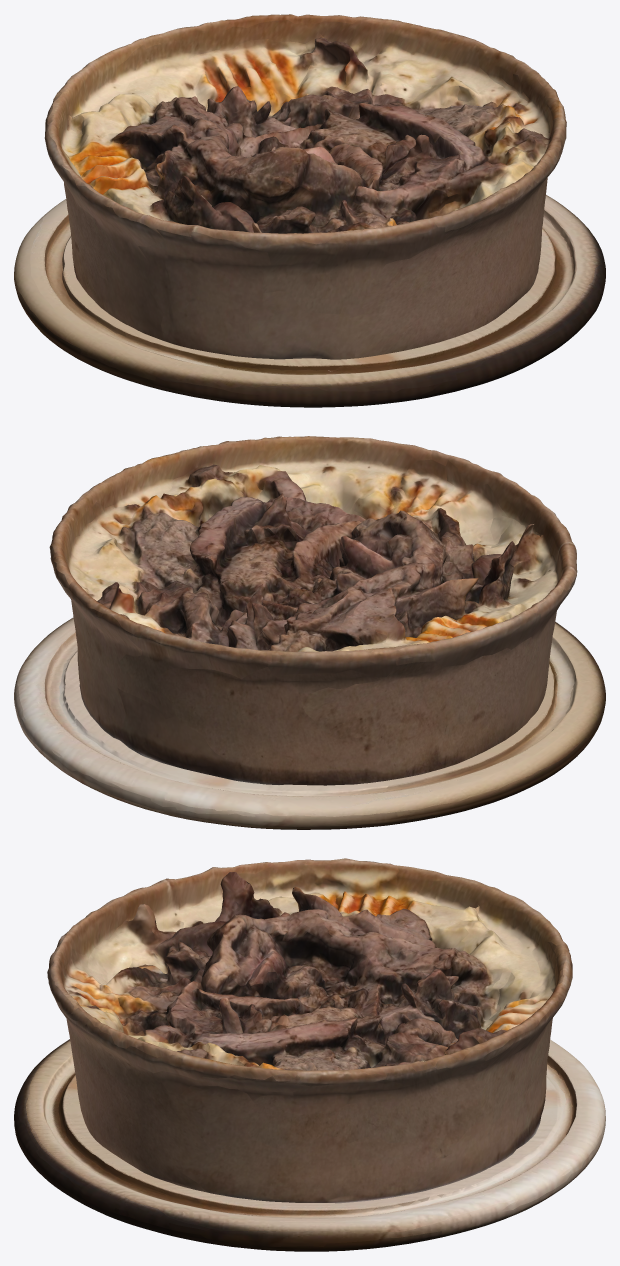
File: Humus.beef.shawerma.roshan.glb
3 views of the same model, one above another, from view 1: azimuth 30°, elevation 25°; view 2: azimuth 150°, elevation 25°; view 3: azimuth 270°, elevation 25° (orthographic).
Parts seen in each view (by area): view 1: /Root/Scenes/Scene/Object_37/Object_38/Submesh_0, /Root/Scenes/Scene/Object_37/Object_41/Submesh_0; view 2: /Root/Scenes/Scene/Object_37/Object_38/Submesh_0, /Root/Scenes/Scene/Object_37/Object_41/Submesh_0; view 3: /Root/Scenes/Scene/Object_37/Object_38/Submesh_0, /Root/Scenes/Scene/Object_37/Object_41/Submesh_0.
Boxes of the visible parts, box(x1,y1,x2,y2) form: /Root/Scenes/Scene/Object_37/Object_38/Submesh_0: box(44, 14, 566, 359); /Root/Scenes/Scene/Object_37/Object_41/Submesh_0: box(14, 195, 605, 407); /Root/Scenes/Scene/Object_37/Object_38/Submesh_0: box(49, 436, 577, 785); /Root/Scenes/Scene/Object_37/Object_41/Submesh_0: box(14, 617, 605, 829); /Root/Scenes/Scene/Object_37/Object_38/Submesh_0: box(47, 858, 572, 1203); /Root/Scenes/Scene/Object_37/Object_41/Submesh_0: box(14, 1039, 605, 1251).
Size of the model in its own units: 0.1851 by 0.0632 by 0.1851.
2 materials, 2 textured.
